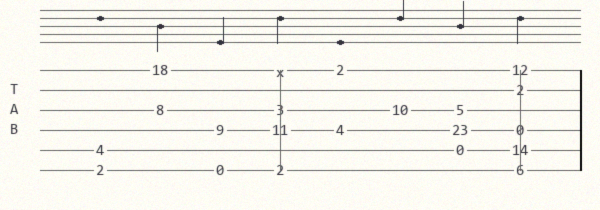0: (216, 163, 228, 177), (456, 143, 468, 157), (516, 123, 528, 137)
10: (392, 103, 412, 117)
11: (272, 123, 292, 137)
12: (512, 63, 532, 77)
14: (512, 143, 532, 157)
18: (152, 63, 172, 77)
2: (96, 163, 108, 177), (276, 163, 288, 177), (336, 63, 348, 77), (516, 83, 528, 97)
23: (452, 123, 472, 137)
3: (276, 103, 288, 117)
4: (96, 143, 108, 157), (336, 123, 348, 137)
5: (456, 103, 468, 117)
6: (516, 163, 528, 177)
8: (156, 103, 168, 117)
9: (216, 123, 228, 137)
x: (276, 65, 288, 76)
